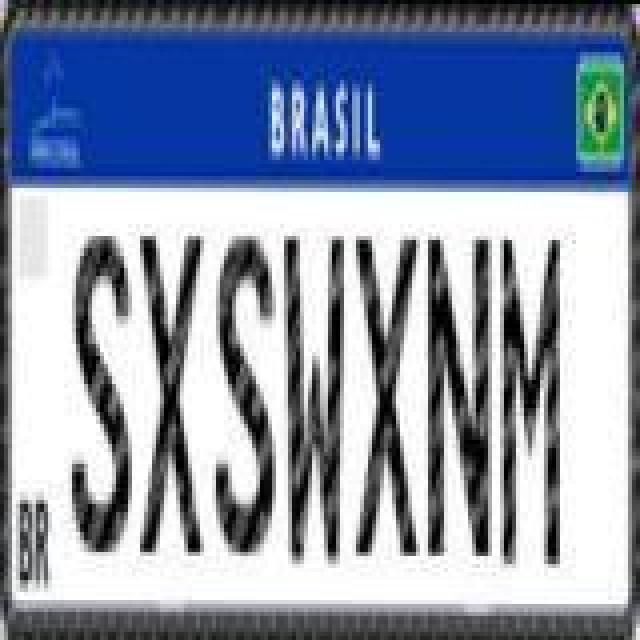M: (498, 234, 558, 574)
N: (426, 230, 494, 558)
S: (216, 228, 280, 560), (72, 228, 136, 556)
W: (280, 232, 344, 572)
X: (140, 230, 204, 558), (356, 230, 420, 558)
